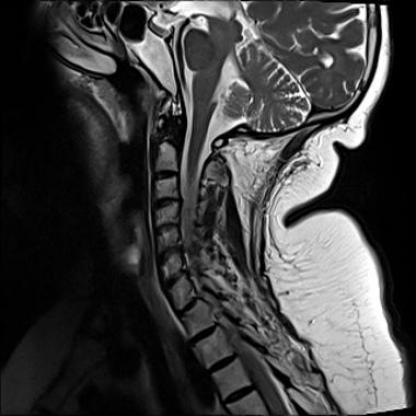Disc Protrusionrotation: (151, 195, 183, 210), (156, 247, 182, 262), (160, 272, 190, 285)
